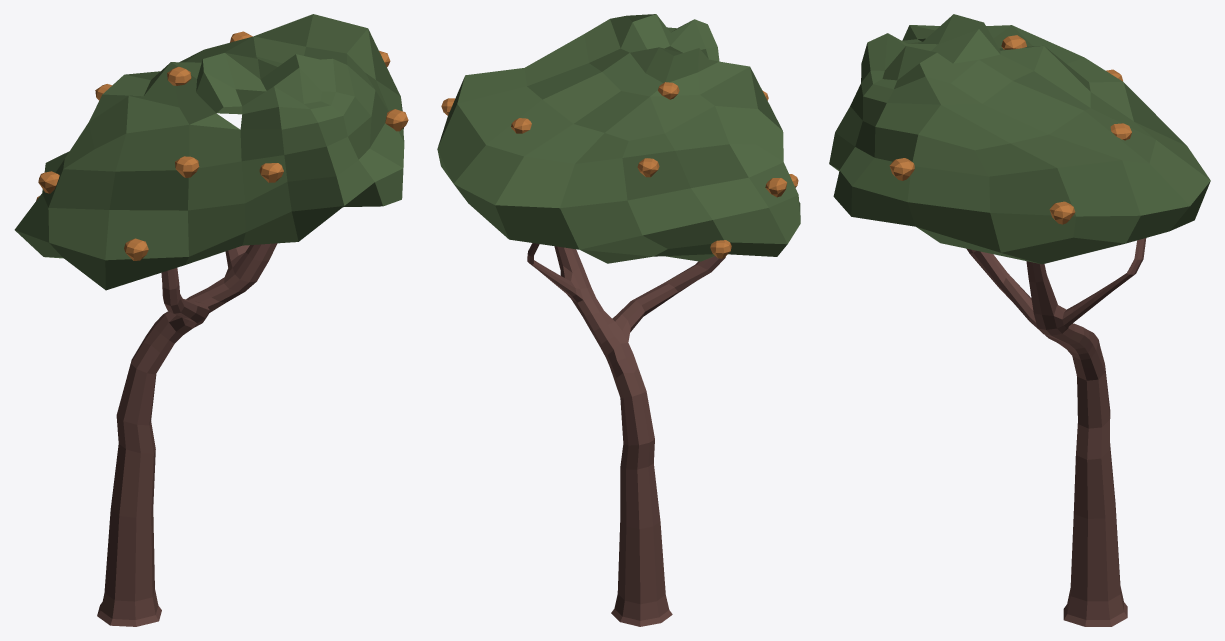
File: Orange_4.glb
3 renders of one model, left to right at view 1: azimuth 30°, elevation 25°; view 2: azimuth 150°, elevation 25°; view 3: azimuth 270°, elevation 25°, orthographic. The views are drawn at different scales.
Visible parts, largest first — view 1: Orange_4; view 2: Orange_4; view 3: Orange_4.
Part boxes in pixels (x1=…): Orange_4: x1=14, y1=14, x2=408, y2=626; Orange_4: x1=437, y1=14, x2=800, y2=626; Orange_4: x1=829, y1=14, x2=1210, y2=626.
Bounding box in the file's own units: 1.86 × 2.76 × 1.58.
